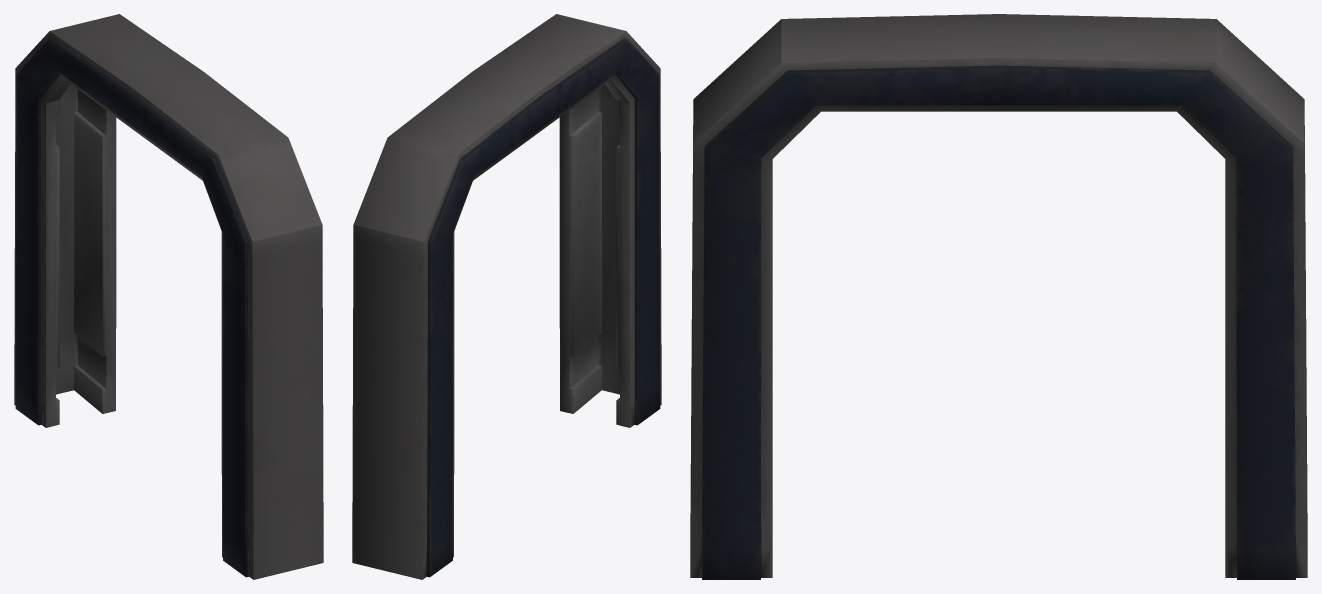
File: door_frame.gltf
3 views of the same model, side by side, from view 1: azimuth 30°, elevation 25°; view 2: azimuth 150°, elevation 25°; view 3: azimuth 270°, elevation 25° (orthographic). The views are drawn at different scales.
Parts seen in each view (by area): view 1: door_frame; view 2: door_frame; view 3: door_frame.
Boxes of the visible parts, <box> form: door_frame: <box>14,14,323,579</box>; door_frame: <box>352,14,661,579</box>; door_frame: <box>690,14,1307,579</box>.
Size of the model in its own units: 0.4333 by 2.18 by 2.35.
Materials: 1 (1 with a texture image).
